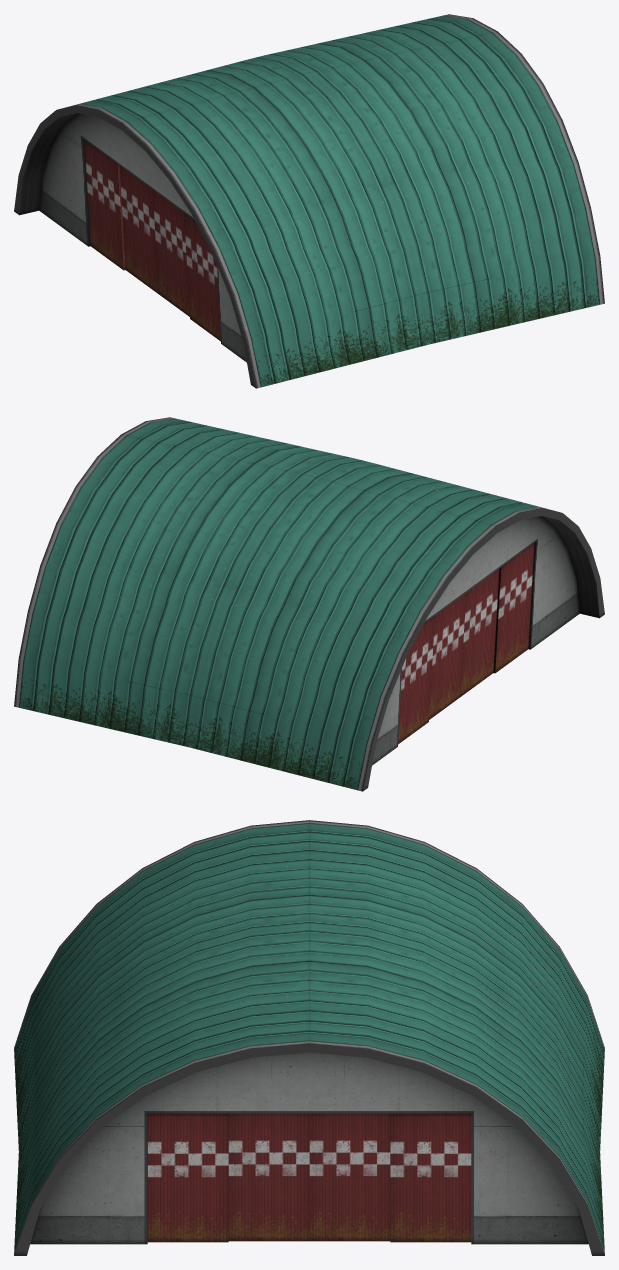
File: Hangar_Closed.fbx
The picture shows the model from 3 angles, top to bottom: view 1: azimuth 30°, elevation 25°; view 2: azimuth 150°, elevation 25°; view 3: azimuth 270°, elevation 25°; orthographic projection. The views are drawn at different scales.
Visible parts, largest first — view 1: Hangar_Closed, Door_02, Door_01; view 2: Hangar_Closed, Door_01, Door_02; view 3: Hangar_Closed.
Boxes of the visible parts, box(x1,y1,x2,y2) form: Hangar_Closed: box(14, 14, 604, 388); Door_02: box(119, 166, 158, 293); Door_01: box(152, 190, 189, 316); Hangar_Closed: box(14, 417, 604, 791); Door_01: box(460, 569, 499, 696); Door_02: box(429, 593, 466, 719); Hangar_Closed: box(14, 820, 604, 1255).
Size of the model in its own units: 91.85 by 43.07 by 102.
